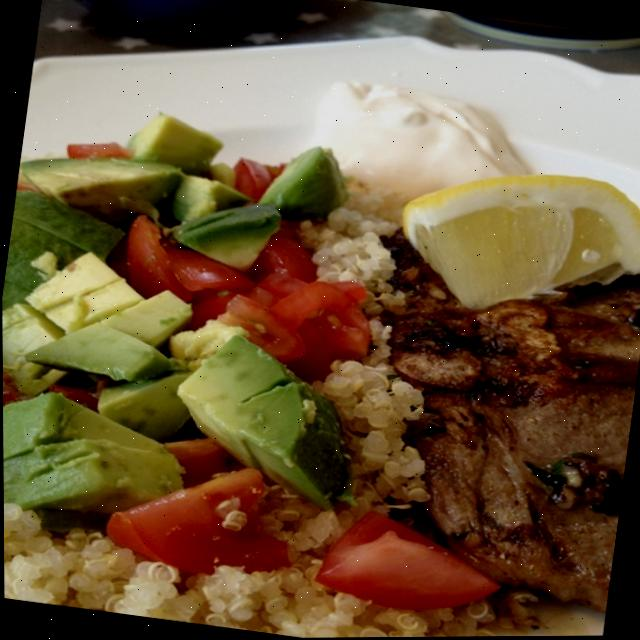猪肉菜式: (0, 44, 640, 640)
